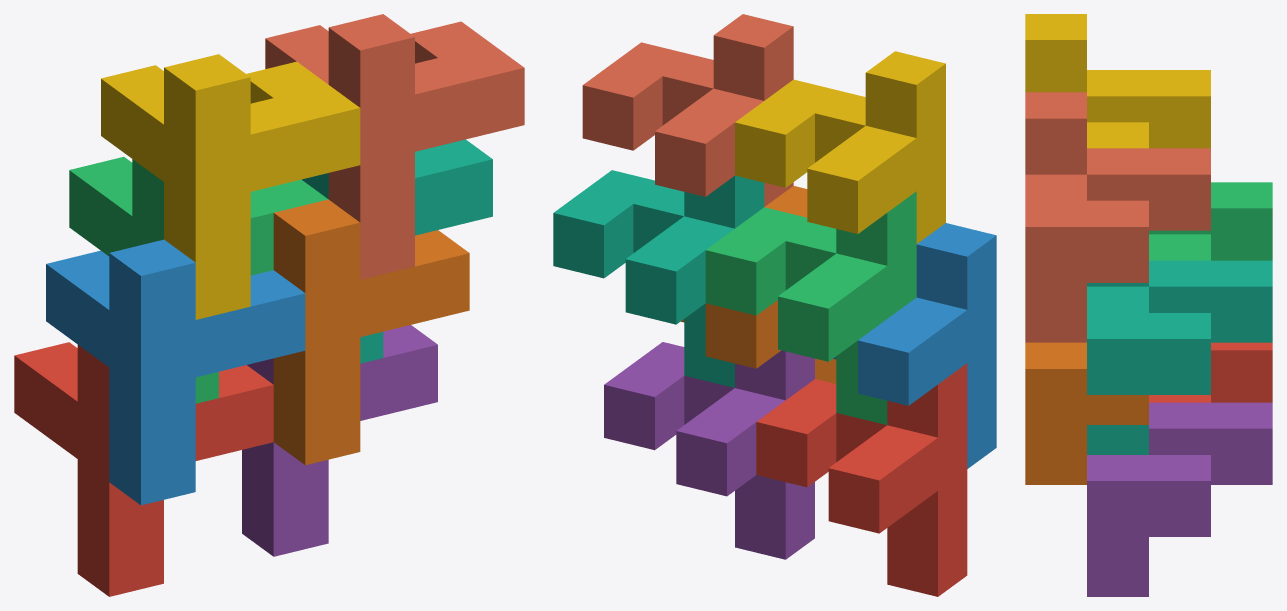
Rendered from tiling.obj.
The picture shows the model from 3 angles, left to right: view 1: azimuth 30°, elevation 25°; view 2: azimuth 150°, elevation 25°; view 3: azimuth 270°, elevation 25°; orthographic projection. The views are drawn at different scales.
Parts seen in each view (by area): view 1: copy_1_domain_4, copy_1_domain_2, copy_1_domain_8, copy_1_domain_6, copy_1_domain_1, copy_1_domain_5, copy_1_domain_3, copy_1_domain_7; view 2: copy_1_domain_1, copy_1_domain_4, copy_1_domain_3, copy_1_domain_5, copy_1_domain_8, copy_1_domain_7, copy_1_domain_2, copy_1_domain_6; view 3: copy_1_domain_8, copy_1_domain_5, copy_1_domain_7, copy_1_domain_4, copy_1_domain_6, copy_1_domain_3, copy_1_domain_1.
Boxes of the visible parts, <box> form: copy_1_domain_4: <box>101,54,360,319</box>; copy_1_domain_2: <box>46,239,305,505</box>; copy_1_domain_8: <box>265,14,524,279</box>; copy_1_domain_6: <box>273,199,469,465</box>; copy_1_domain_1: <box>14,342,273,596</box>; copy_1_domain_5: <box>242,325,437,556</box>; copy_1_domain_3: <box>69,156,328,403</box>; copy_1_domain_7: <box>301,139,492,363</box>; copy_1_domain_1: <box>756,363,967,596</box>; copy_1_domain_4: <box>735,51,945,243</box>; copy_1_domain_3: <box>705,191,916,424</box>; copy_1_domain_5: <box>604,342,814,559</box>; copy_1_domain_8: <box>582,14,793,206</box>; copy_1_domain_7: <box>553,170,764,387</box>; copy_1_domain_2: <box>833,223,996,468</box>; copy_1_domain_6: <box>681,185,836,383</box>; copy_1_domain_8: <box>1025,92,1210,342</box>; copy_1_domain_5: <box>1087,402,1272,596</box>; copy_1_domain_7: <box>1087,260,1272,454</box>; copy_1_domain_4: <box>1025,14,1210,148</box>; copy_1_domain_6: <box>1025,342,1148,484</box>; copy_1_domain_3: <box>1149,182,1272,260</box>; copy_1_domain_1: <box>1149,342,1272,402</box>.
Size of the model in its own units: 7 by 9 by 4.
